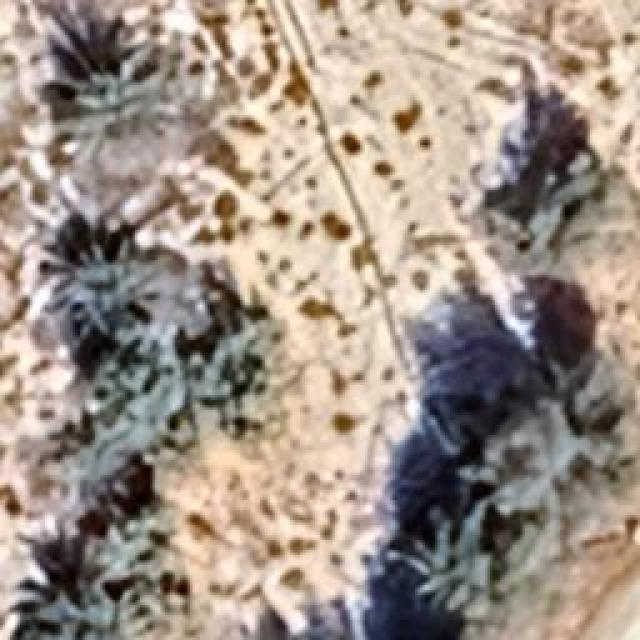PalmTree: (54, 38, 168, 142), (60, 245, 148, 338), (400, 522, 488, 610), (58, 438, 132, 520), (96, 356, 176, 422), (48, 582, 142, 638)
